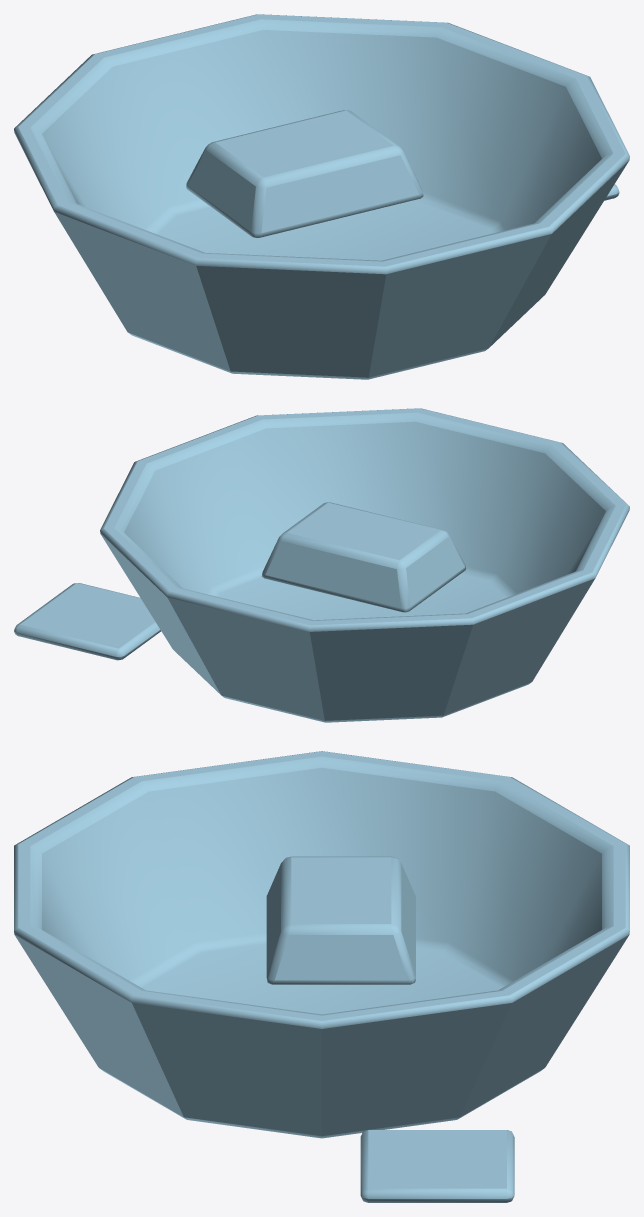
File: ChauNuoc_KhanUot.glb
The picture shows the model from 3 angles, top to bottom: view 1: azimuth 30°, elevation 25°; view 2: azimuth 150°, elevation 25°; view 3: azimuth 270°, elevation 25°; orthographic projection. The views are drawn at different scales.
Visible parts, largest first — view 1: ChauNuoc_KhanUot; view 2: ChauNuoc_KhanUot; view 3: ChauNuoc_KhanUot.
Part boxes in pixels (box(x1,y1,x2,y2)): ChauNuoc_KhanUot: box(14, 14, 629, 379); ChauNuoc_KhanUot: box(14, 408, 629, 722); ChauNuoc_KhanUot: box(14, 751, 629, 1202).
Size of the model in its own units: 0.3682 by 0.09 by 0.3199.
